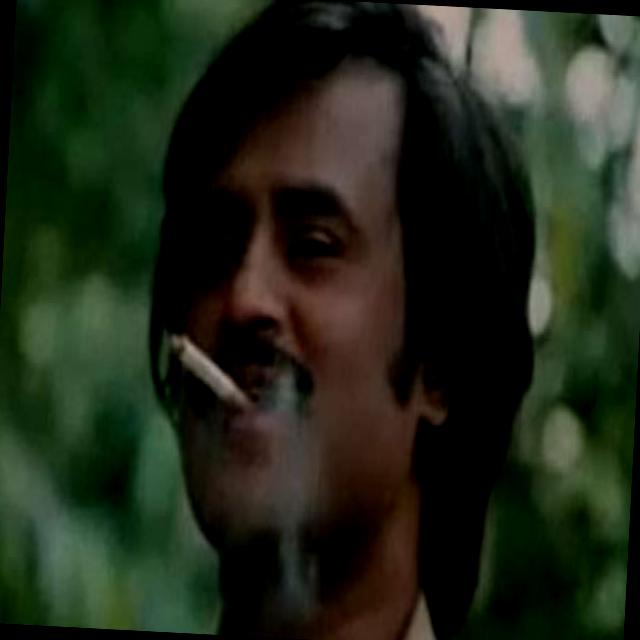smoke: (148, 294, 276, 448)
